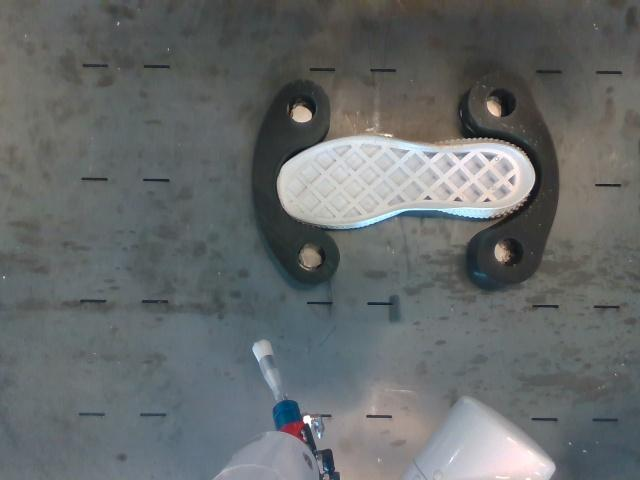shoes: (278, 137, 534, 224)
